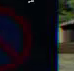No waiting: (0, 0, 37, 70)
